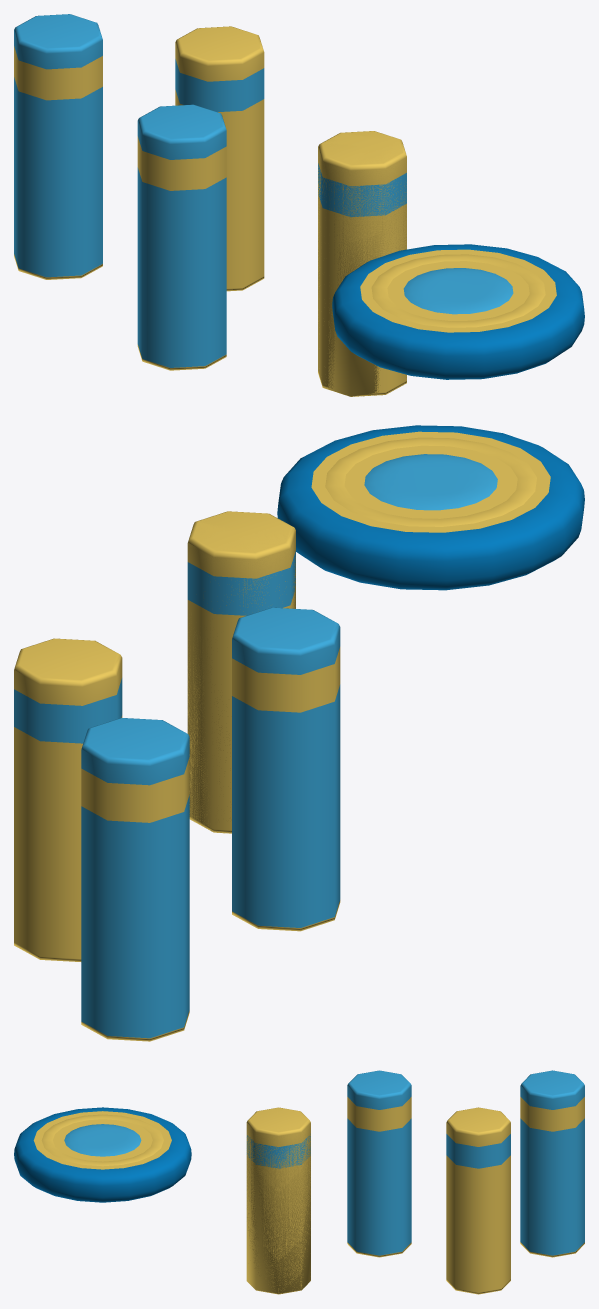
File: plataformasBajas2.fbx
3 views of the same model, one above another, from view 1: azimuth 30°, elevation 25°; view 2: azimuth 150°, elevation 25°; view 3: azimuth 270°, elevation 25° (orthographic). The views are drawn at different scales.
Parts seen in each view (by area): view 1: palito2, palito4, ciruclar, palito3, palito1, palitoColision, ciruclarColision; view 2: palito4, palito2, ciruclar, palito3, palito1, ciruclarColision, palitoColision; view 3: palito2, palito3, palito4, ciruclar, palitoColision, palito1, ciruclarColision.
Boxes of the visible parts, box(x1,y1,x2,y2) form: palito2: box(137, 104, 226, 370); palito4: box(14, 14, 102, 279); ciruclar: box(332, 244, 584, 379); palito3: box(175, 26, 264, 291); palito1: box(318, 131, 406, 396); palitoColision: box(318, 131, 406, 396); ciruclarColision: box(360, 249, 556, 332); palito4: box(81, 718, 189, 1041); palito2: box(232, 607, 340, 931); ciruclar: box(277, 425, 584, 590); palito3: box(14, 638, 122, 961); palito1: box(187, 511, 295, 833); ciruclarColision: box(311, 431, 550, 532); palitoColision: box(187, 511, 295, 832); palito2: box(347, 1070, 411, 1257); palito3: box(446, 1107, 510, 1294); palito4: box(520, 1070, 584, 1257); ciruclar: box(14, 1107, 191, 1202); palitoColision: box(246, 1108, 310, 1293); palito1: box(246, 1107, 310, 1294); ciruclarColision: box(33, 1111, 171, 1169).
Size of the model in its own units: 1170 by 1125 by 3617.
